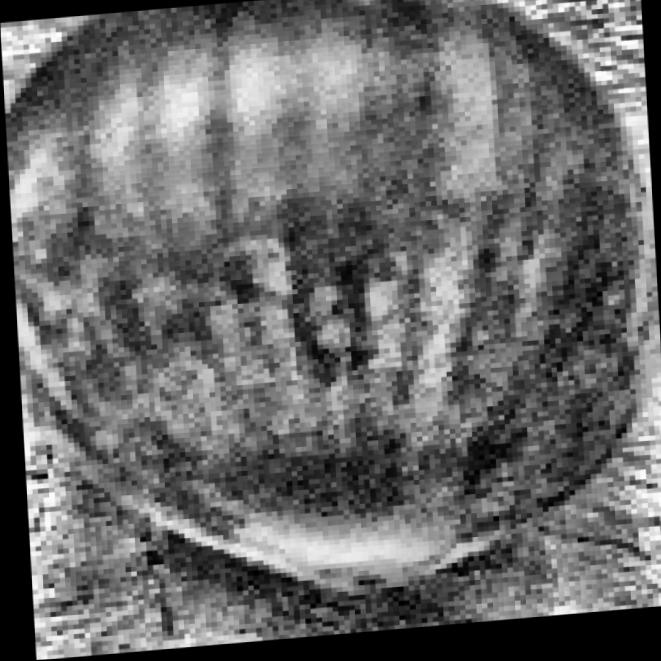qualityHazelnut: (0, 0, 661, 656)
